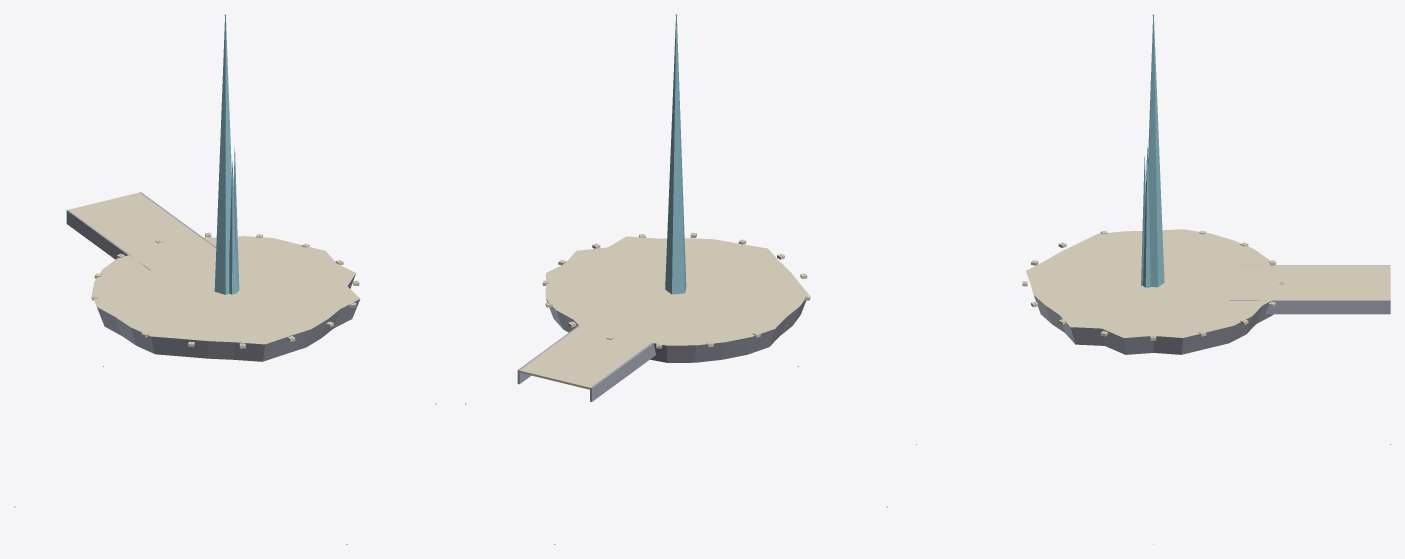
The model's file is chunk_es_side_treasury.fbx.
3 views of the same model, side by side, from view 1: azimuth 30°, elevation 25°; view 2: azimuth 150°, elevation 25°; view 3: azimuth 270°, elevation 25° (orthographic). The views are drawn at different scales.
Visible parts, largest first — view 1: ES_SIDE_TREASURY; view 2: ES_SIDE_TREASURY; view 3: ES_SIDE_TREASURY.
Boxes of the visible parts, bbox=[...] form: ES_SIDE_TREASURY: bbox=[14, 14, 436, 544]; ES_SIDE_TREASURY: bbox=[465, 14, 887, 544]; ES_SIDE_TREASURY: bbox=[916, 14, 1390, 544].
Size of the model in its own units: 256 by 256 by 256.
